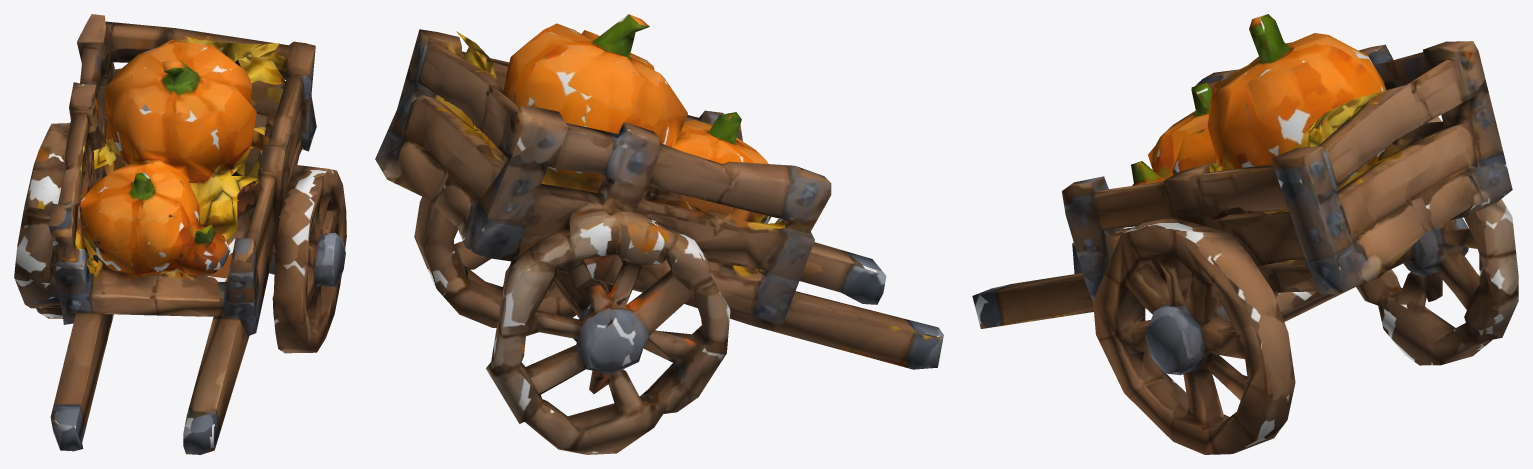
File: dec_cart.glb
The picture shows the model from 3 angles, left to right: view 1: azimuth 30°, elevation 25°; view 2: azimuth 150°, elevation 25°; view 3: azimuth 270°, elevation 25°; orthographic projection. The views are drawn at different scales.
Parts seen in each view (by area): view 1: BakeLow; view 2: BakeLow; view 3: BakeLow.
Part boxes in pixels (x1,y1,x2,y2): BakeLow: (14,14,346,454); BakeLow: (375,14,943,454); BakeLow: (972,14,1518,454).
Bounding box in the file's own units: 0.8227 × 0.6396 × 0.8686.
1 material, 1 textured.
